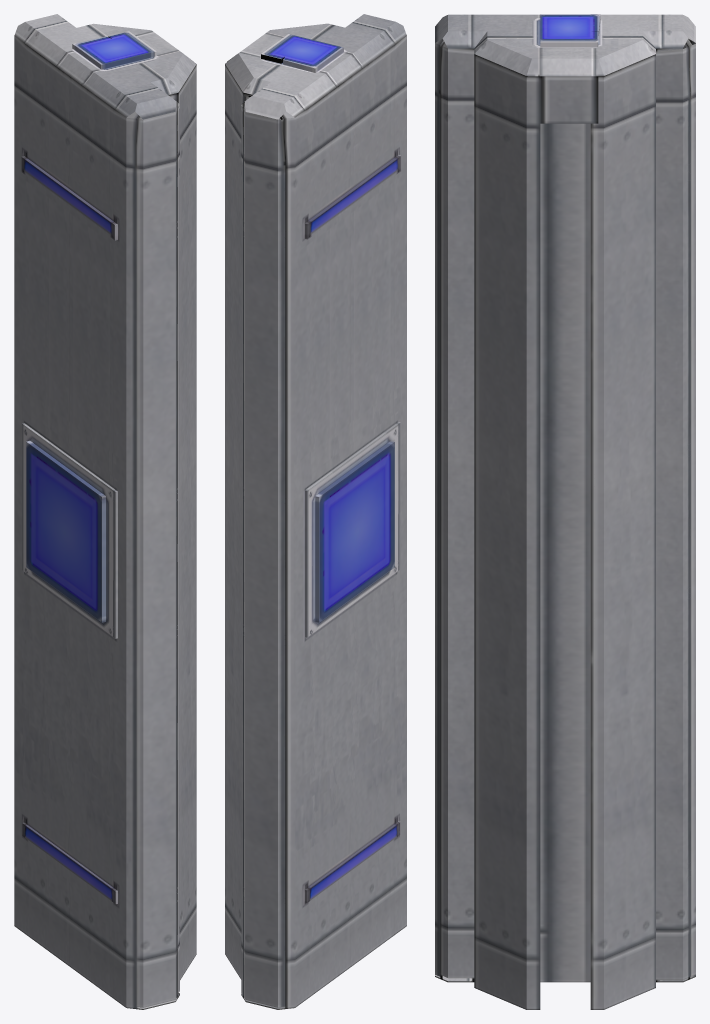
Rendered from door_part_v0.fbx.
The picture shows the model from 3 angles, left to right: view 1: azimuth 30°, elevation 25°; view 2: azimuth 150°, elevation 25°; view 3: azimuth 270°, elevation 25°; orthographic projection. The views are drawn at different scales.
Parts seen in each view (by area): view 1: Cube; view 2: Cube; view 3: Cube.
Boxes of the visible parts, x1,y1,x2,y2 form: Cube: (14, 14, 196, 1009); Cube: (225, 14, 406, 1009); Cube: (435, 14, 695, 1009).
Bounding box in the file's own units: 10.62 × 80.41 × 20.
1 material, 1 textured.
